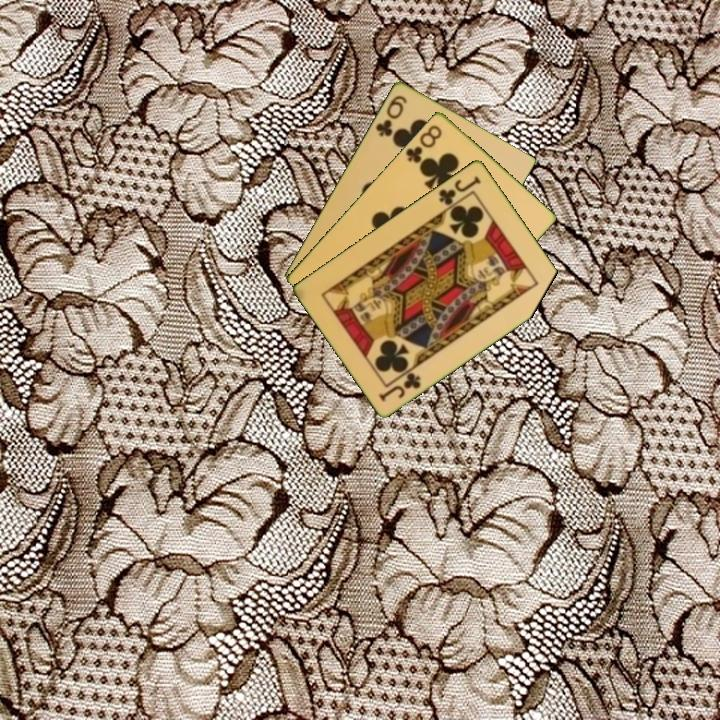6c: (372, 91, 410, 139)
8c: (402, 121, 445, 168)
Jc: (435, 172, 484, 208), (375, 368, 424, 404)
